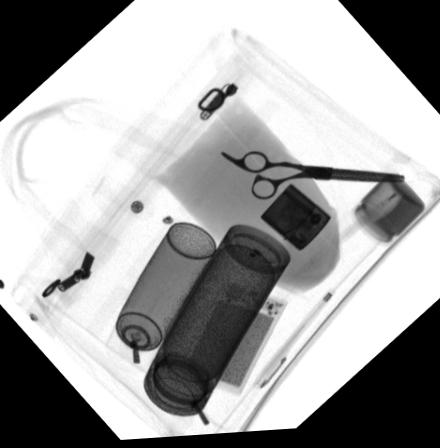Lighter: (260, 185, 334, 260)
Powerbank: (176, 285, 290, 403)
Scissors: (219, 150, 405, 205)
Sprayer: (113, 222, 215, 353)
